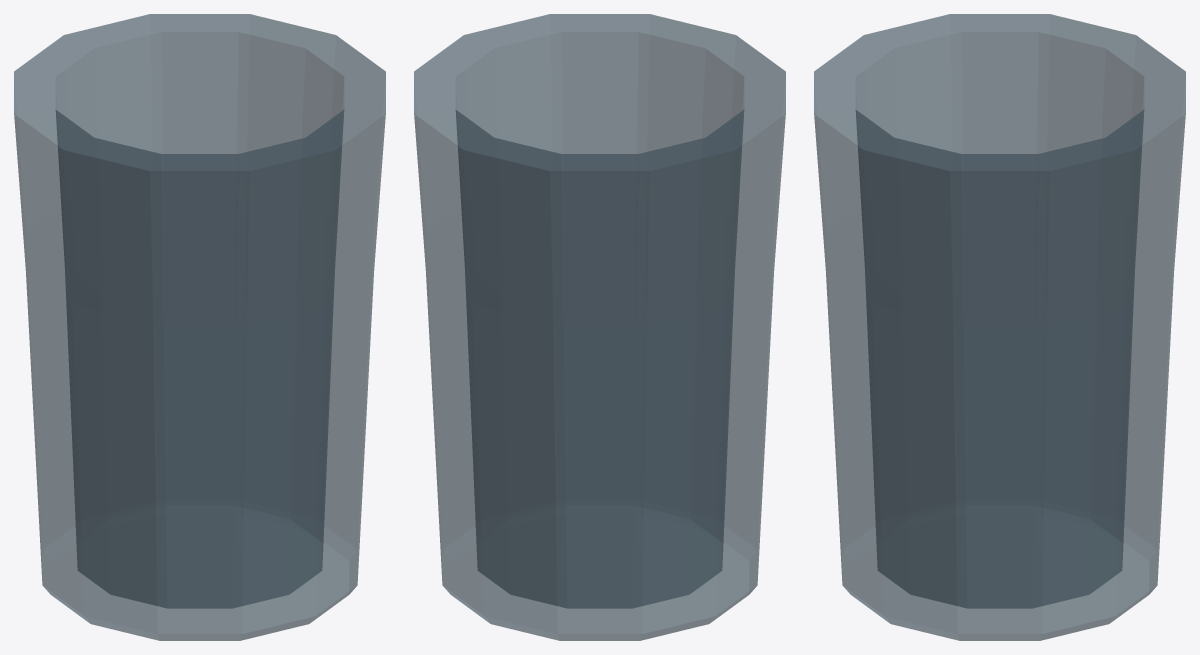
Rendered from Stakan.FBX.
3 views of the same model, side by side, from view 1: azimuth 30°, elevation 25°; view 2: azimuth 150°, elevation 25°; view 3: azimuth 270°, elevation 25° (orthographic).
Visible parts, largest first — view 1: stakan_01; view 2: stakan_01; view 3: stakan_01.
Part boxes in pixels (x1,y1,x2,y2): stakan_01: (14,14,385,640); stakan_01: (414,14,785,640); stakan_01: (814,14,1185,640).
Size of the model in its own units: 4.7 by 4.7 by 6.77.
